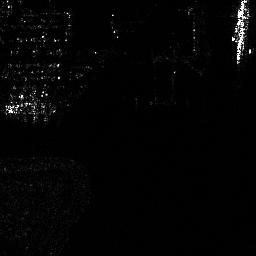ship: (235, 4, 251, 69), (2, 100, 57, 115)
